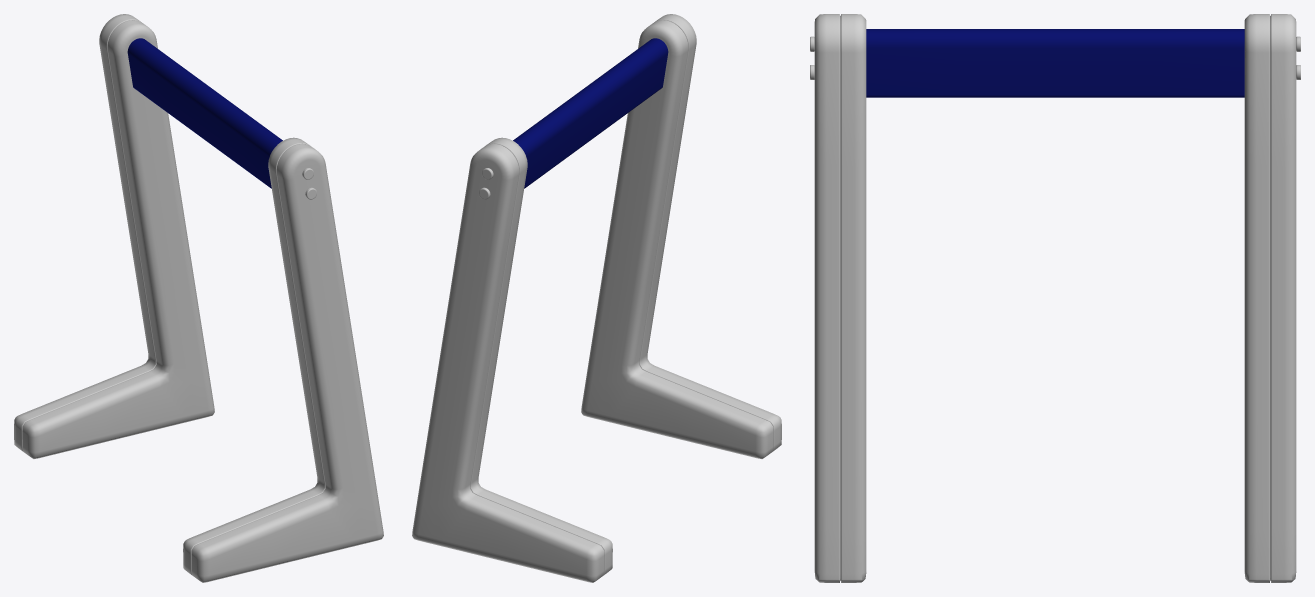
The model's file is pipetteStandVertical.obj.
The picture shows the model from 3 angles, left to right: view 1: azimuth 30°, elevation 25°; view 2: azimuth 150°, elevation 25°; view 3: azimuth 270°, elevation 25°; orthographic projection. The views are drawn at different scales.
Parts seen in each view (by area): view 1: Cylinder_Cylinder.001; view 2: Cylinder_Cylinder.001; view 3: Cylinder_Cylinder.001.
Part boxes in pixels (box(x1,y1,x2,y2)): Cylinder_Cylinder.001: box(14, 14, 383, 582); Cylinder_Cylinder.001: box(412, 14, 781, 582); Cylinder_Cylinder.001: box(810, 14, 1300, 582).
Bounding box in the file's own units: 2.03 × 4.3 × 3.68.
